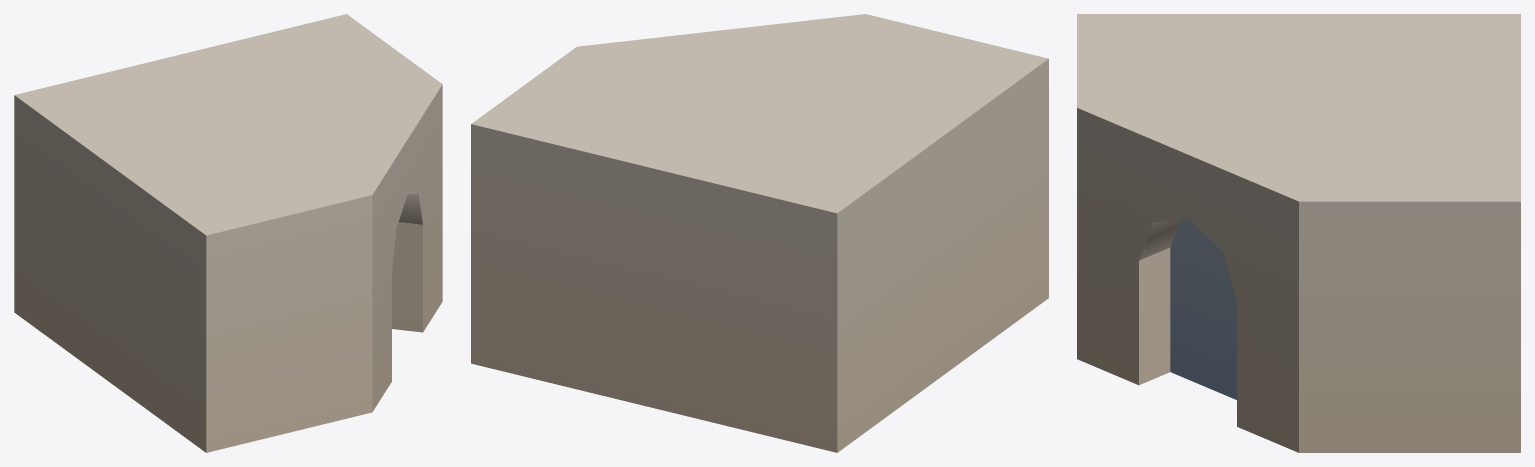
Rendered from building-corner-window-top-round.glb.
The picture shows the model from 3 angles, left to right: view 1: azimuth 30°, elevation 25°; view 2: azimuth 150°, elevation 25°; view 3: azimuth 270°, elevation 25°; orthographic projection. The views are drawn at different scales.
Visible parts, largest first — view 1: building-corner-window-top-round; view 2: building-corner-window-top-round; view 3: building-corner-window-top-round.
Part boxes in pixels (x1,y1,x2,y2): building-corner-window-top-round: (14, 14, 442, 452); building-corner-window-top-round: (471, 14, 1048, 452); building-corner-window-top-round: (1077, 14, 1520, 452).
Bounding box in the file's own units: 1 × 0.625 × 1.
